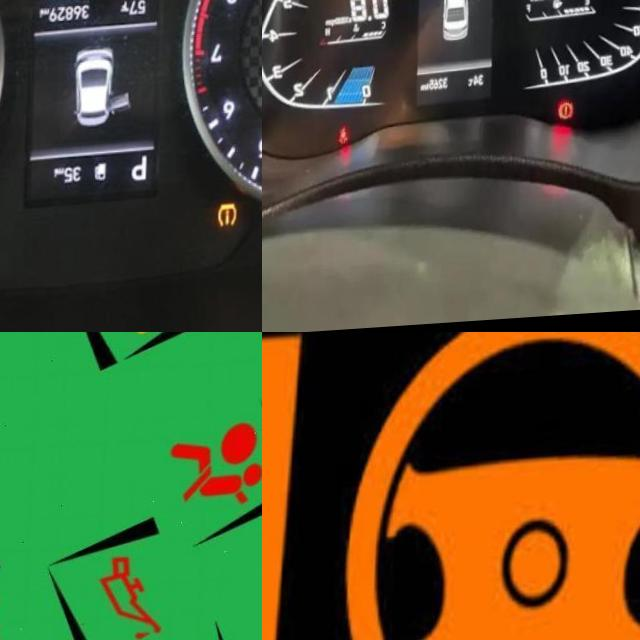Electronic Power Steering: (262, 332, 640, 640)
Seat Belt: (341, 129, 354, 148)
